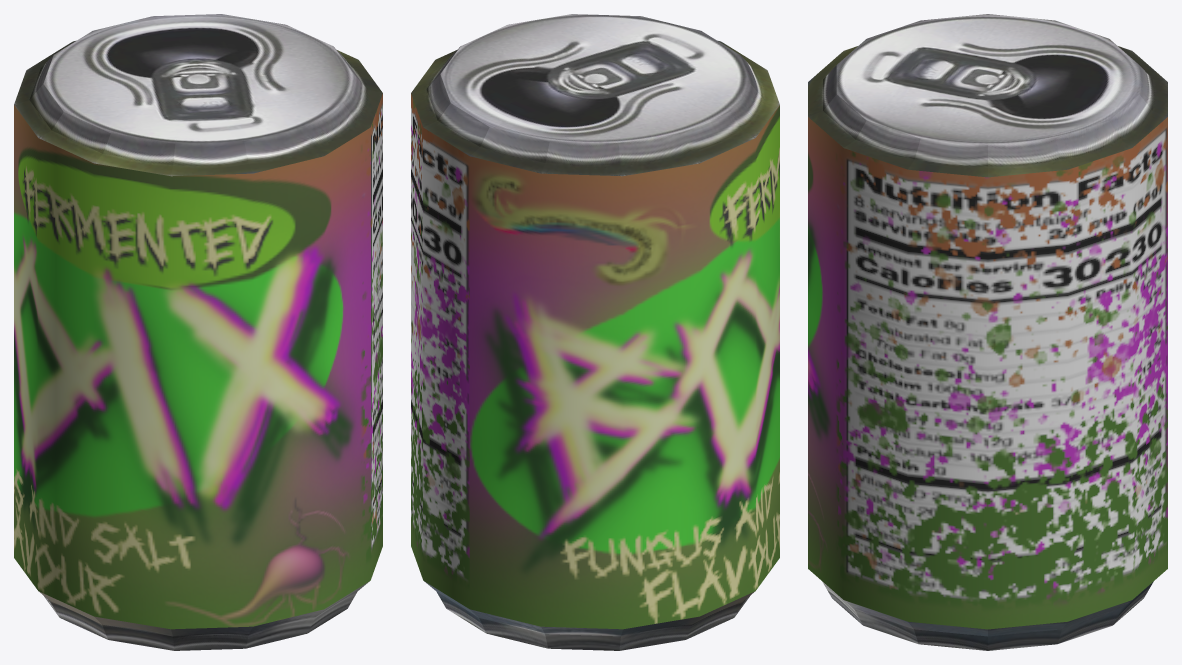
Rendered from DigDig Ful läsk.fbx.
3 views of the same model, side by side, from view 1: azimuth 30°, elevation 25°; view 2: azimuth 150°, elevation 25°; view 3: azimuth 270°, elevation 25° (orthographic).
Visible parts, largest first — view 1: pCylinder1; view 2: pCylinder1; view 3: pCylinder1.
Part boxes in pixels (x1=…): pCylinder1: x1=14, y1=14, x2=382, y2=650; pCylinder1: x1=411, y1=14, x2=779, y2=650; pCylinder1: x1=808, y1=14, x2=1167, y2=650.
Size of the model in its own units: 2 by 3.01 by 1.95.
